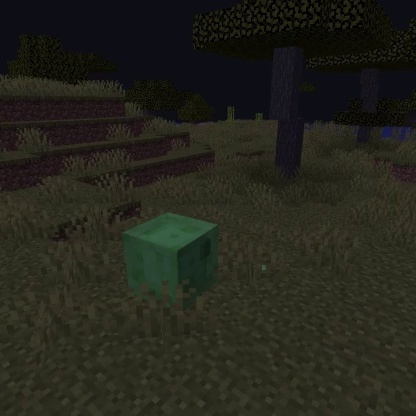slime: (119, 210, 221, 311)
